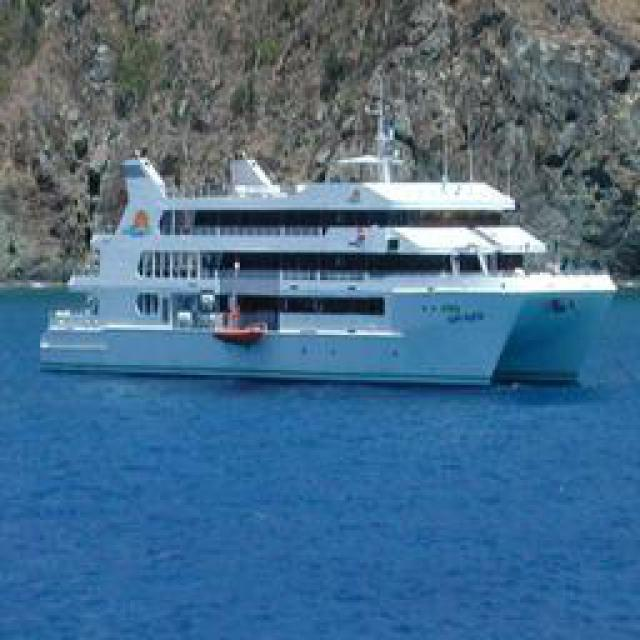Ship: (40, 153, 615, 391)
